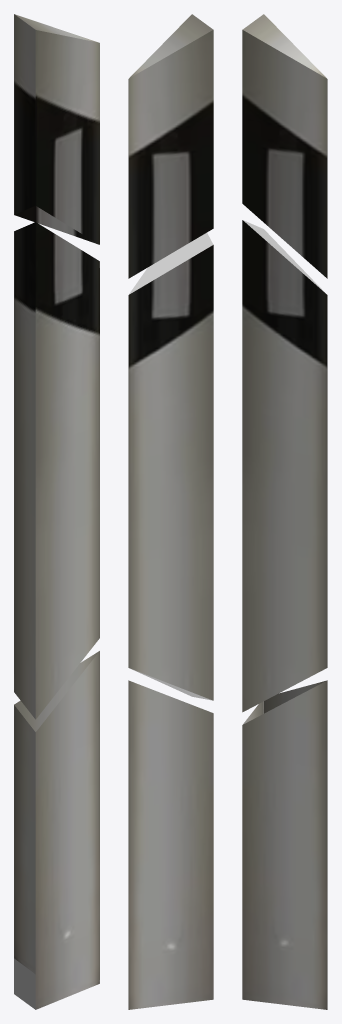
The model's file is barrierBroken.fbx.
3 views of the same model, side by side, from view 1: azimuth 30°, elevation 25°; view 2: azimuth 210°, elevation 25°; view 3: azimuth 330°, elevation 25° (orthographic).
Visible parts, largest first — view 1: Cube, Cube.002, Cube.001; view 2: Cube, Cube.002, Cube.001; view 3: Cube, Cube.002, Cube.001.
Part boxes in pixels (x1,y1,x2,y2): Cube: (14, 222, 99, 719); Cube.002: (14, 651, 99, 1009); Cube.001: (14, 14, 99, 244); Cube: (128, 232, 213, 700); Cube.002: (128, 680, 213, 1009); Cube.001: (128, 14, 213, 278); Cube: (242, 220, 327, 712); Cube.002: (242, 680, 327, 1009); Cube.001: (242, 14, 327, 278).
Size of the model in its own units: 10 by 125 by 5.
